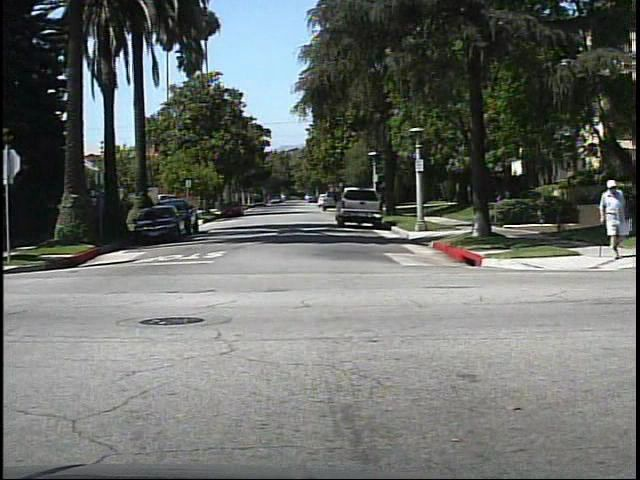person: (597, 173, 632, 261)
